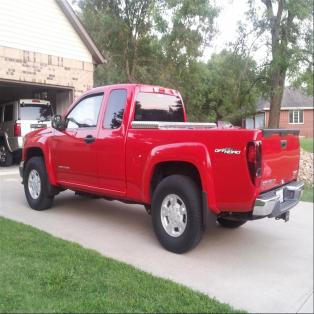Auto: (19, 84, 305, 253)
